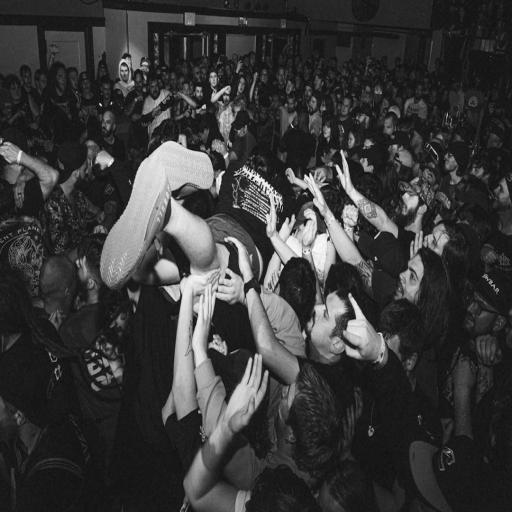face: (306, 293, 345, 354), (463, 292, 498, 337), (394, 255, 423, 303), (426, 224, 449, 256), (493, 178, 511, 211)
